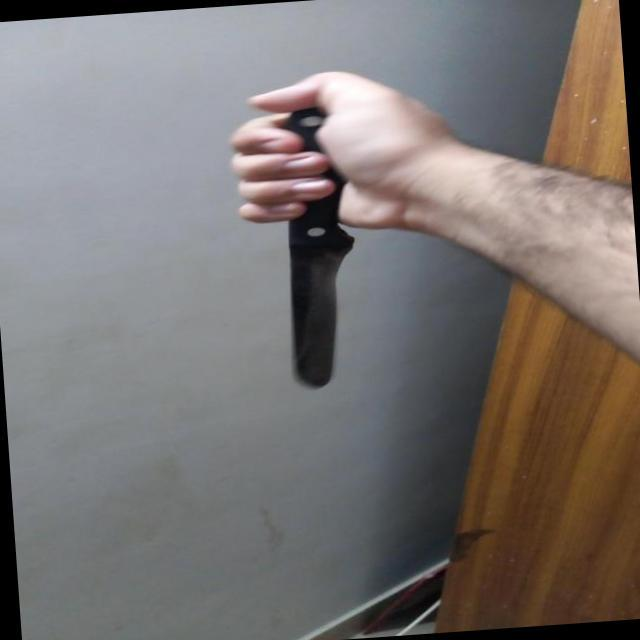Knife: (212, 70, 434, 409)
